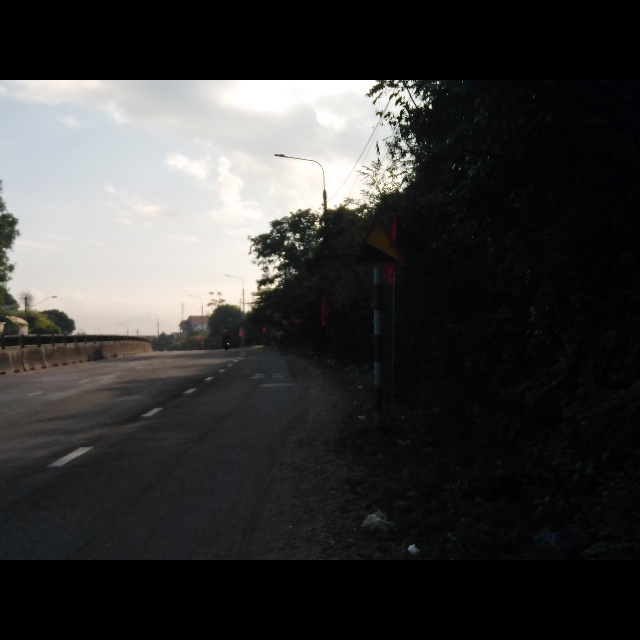Dốc lên nguy hiểm: (349, 217, 407, 272)
